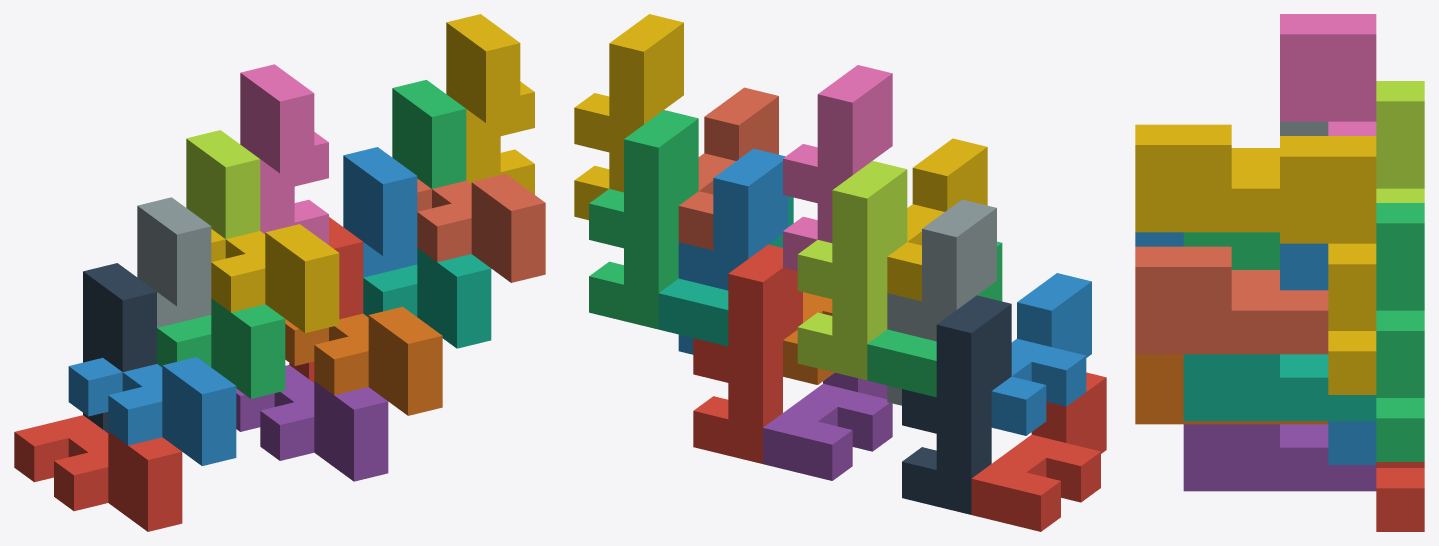
The model's file is tiling.obj.
3 renders of one model, left to right at view 1: azimuth 30°, elevation 25°; view 2: azimuth 150°, elevation 25°; view 3: azimuth 270°, elevation 25°, orthographic. The views are drawn at different scales.
Parts seen in each view (by area): view 1: copy_1_domain_1, copy_1_domain_2, copy_1_domain_6, copy_1_domain_5, copy_2_domain_8, copy_2_domain_4, copy_1_domain_4, copy_1_domain_8, copy_1_domain_3, copy_1_domain_7, copy_2_domain_2, copy_2_domain_6 (+4 smaller); view 2: copy_2_domain_3, copy_2_domain_7, copy_2_domain_1, copy_2_domain_5, copy_1_domain_1, copy_2_domain_4, copy_2_domain_8, copy_1_domain_2, copy_1_domain_5, copy_2_domain_2, copy_2_domain_6, copy_1_domain_8 (+4 smaller); view 3: copy_2_domain_8, copy_1_domain_8, copy_1_domain_4, copy_2_domain_7, copy_1_domain_5, copy_1_domain_7, copy_2_domain_4, copy_2_domain_3, copy_2_domain_6, copy_1_domain_6, copy_2_domain_5, copy_1_domain_3 (+2 smaller).
Boxes of the visible parts, x1,y1,x2,y2 form: copy_1_domain_1: [14, 415, 182, 531]; copy_1_domain_2: [68, 357, 236, 465]; copy_1_domain_6: [285, 306, 442, 415]; copy_1_domain_5: [236, 365, 388, 481]; copy_2_domain_8: [446, 14, 534, 194]; copy_2_domain_4: [240, 64, 328, 244]; copy_1_domain_4: [211, 224, 339, 333]; copy_1_domain_8: [417, 173, 545, 282]; copy_1_domain_3: [157, 298, 285, 398]; copy_1_domain_7: [363, 248, 491, 348]; copy_2_domain_2: [137, 197, 211, 327]; copy_2_domain_6: [343, 147, 417, 277]; copy_2_domain_3: [797, 161, 907, 380]; copy_2_domain_7: [589, 110, 698, 329]; copy_2_domain_1: [902, 295, 1011, 514]; copy_2_domain_5: [693, 244, 802, 463]; copy_1_domain_1: [971, 372, 1106, 531]; copy_2_domain_4: [783, 65, 892, 270]; copy_2_domain_8: [574, 14, 683, 220]; copy_1_domain_2: [991, 273, 1091, 435]; copy_1_domain_5: [763, 372, 892, 480]; copy_2_domain_2: [887, 199, 996, 405]; copy_2_domain_6: [678, 148, 788, 354]; copy_1_domain_8: [678, 87, 778, 250]; copy_2_domain_8: [1280, 136, 1376, 394]; copy_1_domain_8: [1135, 246, 1328, 354]; copy_1_domain_4: [1135, 124, 1279, 232]; copy_2_domain_7: [1376, 203, 1424, 461]; copy_1_domain_5: [1183, 424, 1376, 491]; copy_1_domain_7: [1183, 354, 1376, 421]; copy_2_domain_4: [1280, 14, 1376, 135]; copy_2_domain_3: [1376, 81, 1424, 202]; copy_2_domain_6: [1280, 243, 1376, 464]; copy_1_domain_6: [1135, 354, 1328, 424]; copy_2_domain_5: [1376, 462, 1424, 531]; copy_1_domain_3: [1183, 232, 1279, 269].
Size of the model in its own units: 14 by 10 by 6.
